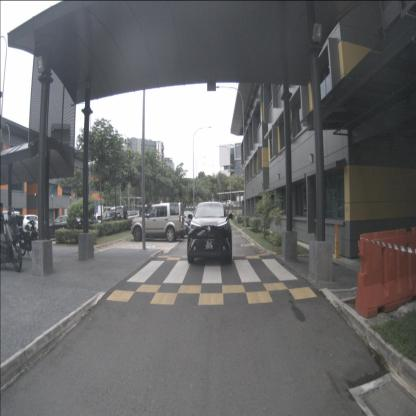barrier: (354, 226, 416, 318)
cone: (333, 224, 341, 259)
